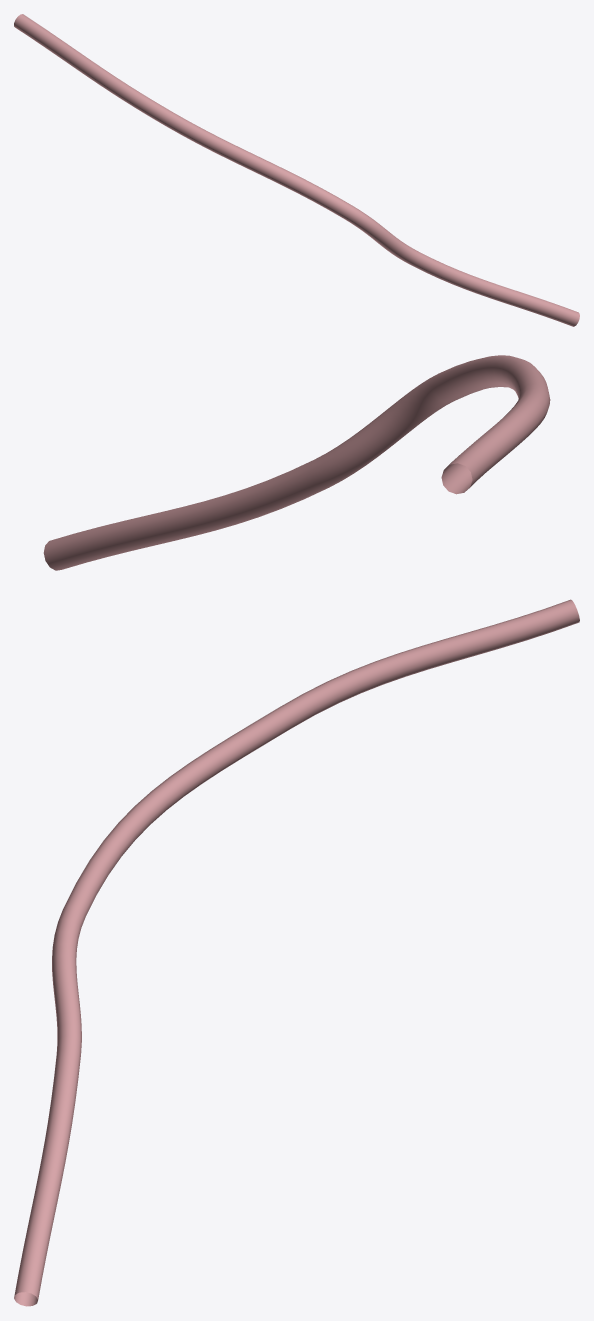
3 renders of one model, top to bottom at view 1: azimuth 30°, elevation 25°; view 2: azimuth 150°, elevation 25°; view 3: azimuth 270°, elevation 25°, orthographic. The views are drawn at different scales.
Parts seen in each view (by area): view 1: ZA_46a9f19633fcf000; view 2: ZA_46a9f19633fcf000; view 3: ZA_46a9f19633fcf000.
Boxes of the visible parts, x1,y1,x2,y2 form: ZA_46a9f19633fcf000: (14,14,579,326); ZA_46a9f19633fcf000: (43,355,550,570); ZA_46a9f19633fcf000: (14,599,579,1306).
Bounding box in the file's own units: 0.0283 × 0.0191 × 0.0231.
